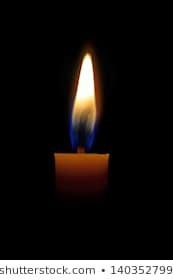fire: (70, 46, 98, 148)
